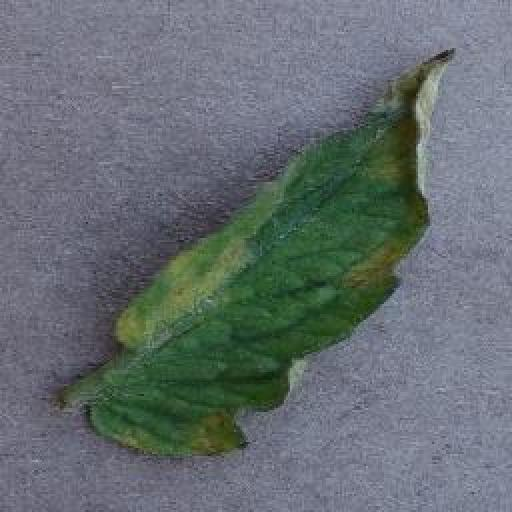disease_tomato: (91, 47, 458, 461)
